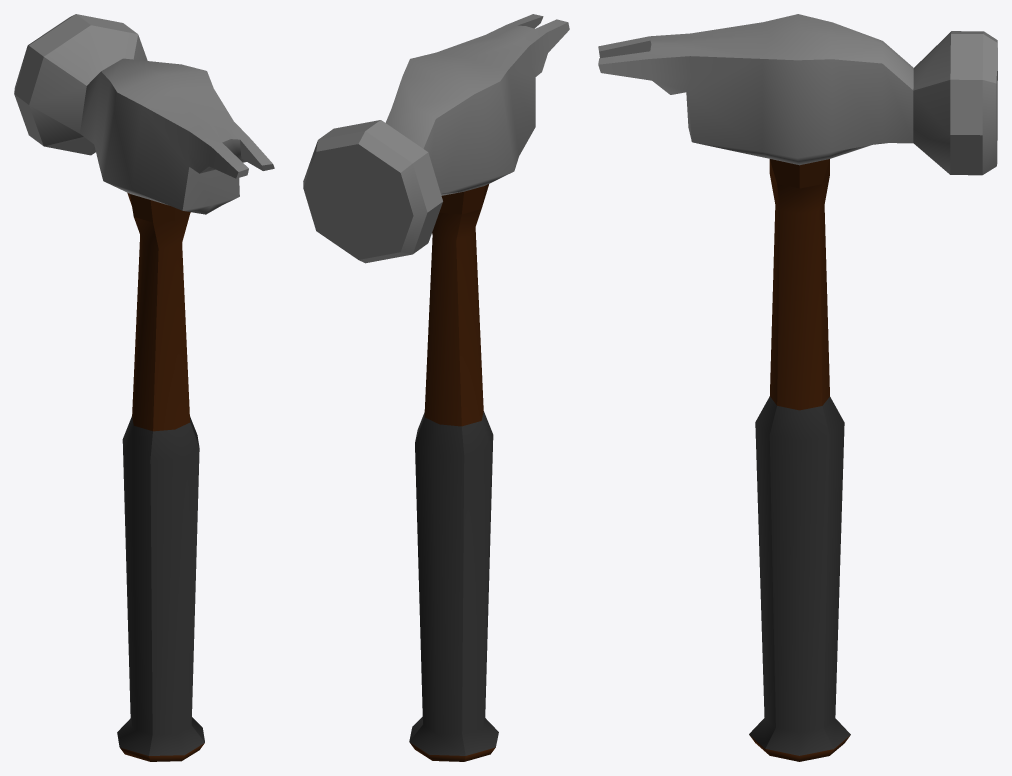
The model's file is Texture_Hammer.obj.
3 views of the same model, side by side, from view 1: azimuth 30°, elevation 25°; view 2: azimuth 150°, elevation 25°; view 3: azimuth 270°, elevation 25° (orthographic). The views are drawn at different scales.
Visible parts, largest first — view 1: pCube4; view 2: pCube4; view 3: pCube4.
Part boxes in pixels (left/top/right/bottom): pCube4: left=14, top=14, right=274, bottom=761; pCube4: left=303, top=14, right=569, bottom=761; pCube4: left=598, top=14, right=997, bottom=761.
Size of the model in its own units: 5.05 by 26.22 by 13.33.
